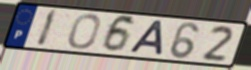2: (201, 24, 236, 62)
6: (99, 14, 139, 55), (167, 20, 201, 60)
A: (127, 19, 166, 57)
I: (34, 8, 59, 49)
O: (67, 13, 103, 51)
